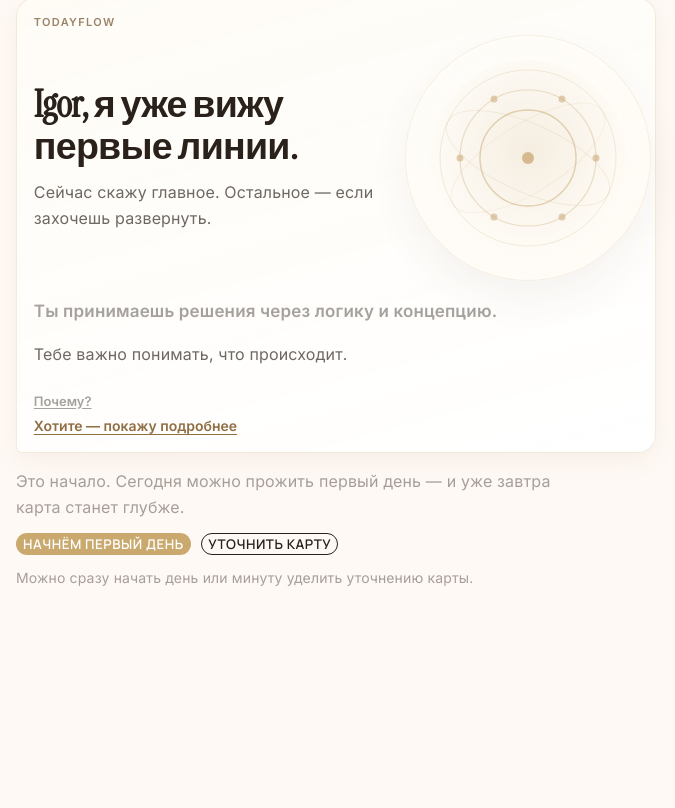
Test: FirstResultScreen › expands additional observations inside deepen panel
Step 1. Click the button "Хотите — покажу подробнее" → point(135, 425), box [34,417,237,434]
(page scrolled)
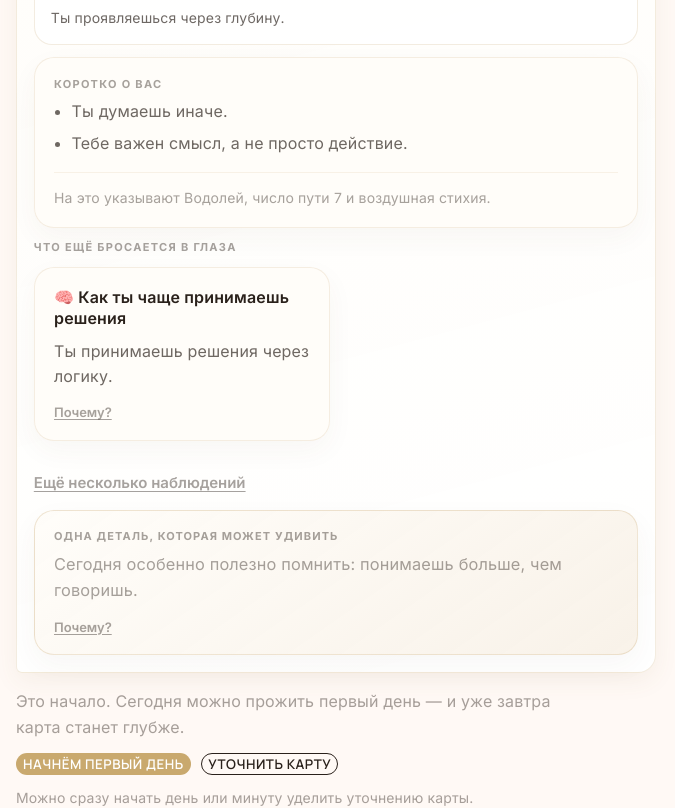
Step 2. Click the button with test id "show-more-observations" → point(140, 483), box [34,468,246,498]
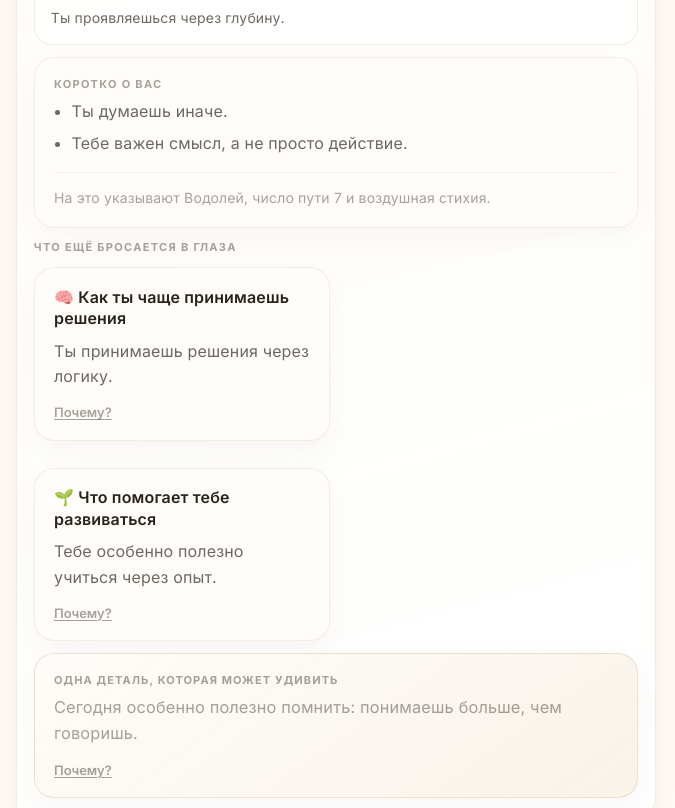
Expected: the element with test id "portrait-card-more-2" is shown, [34,468,330,641]
